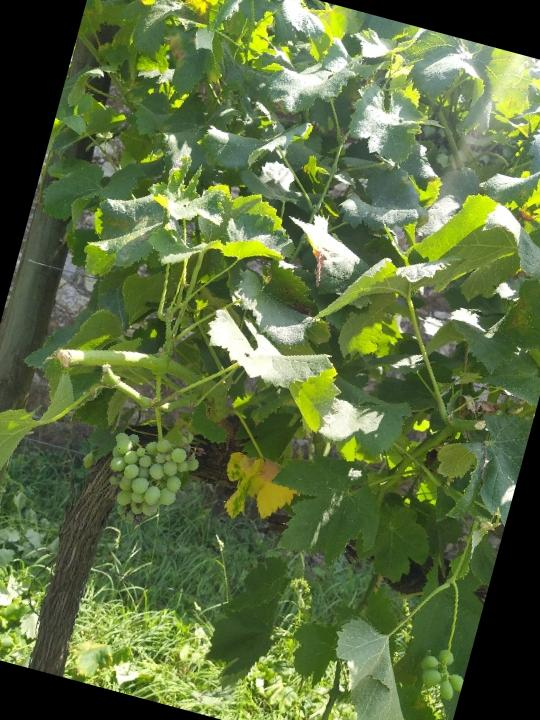grape: (92, 425, 206, 540)
